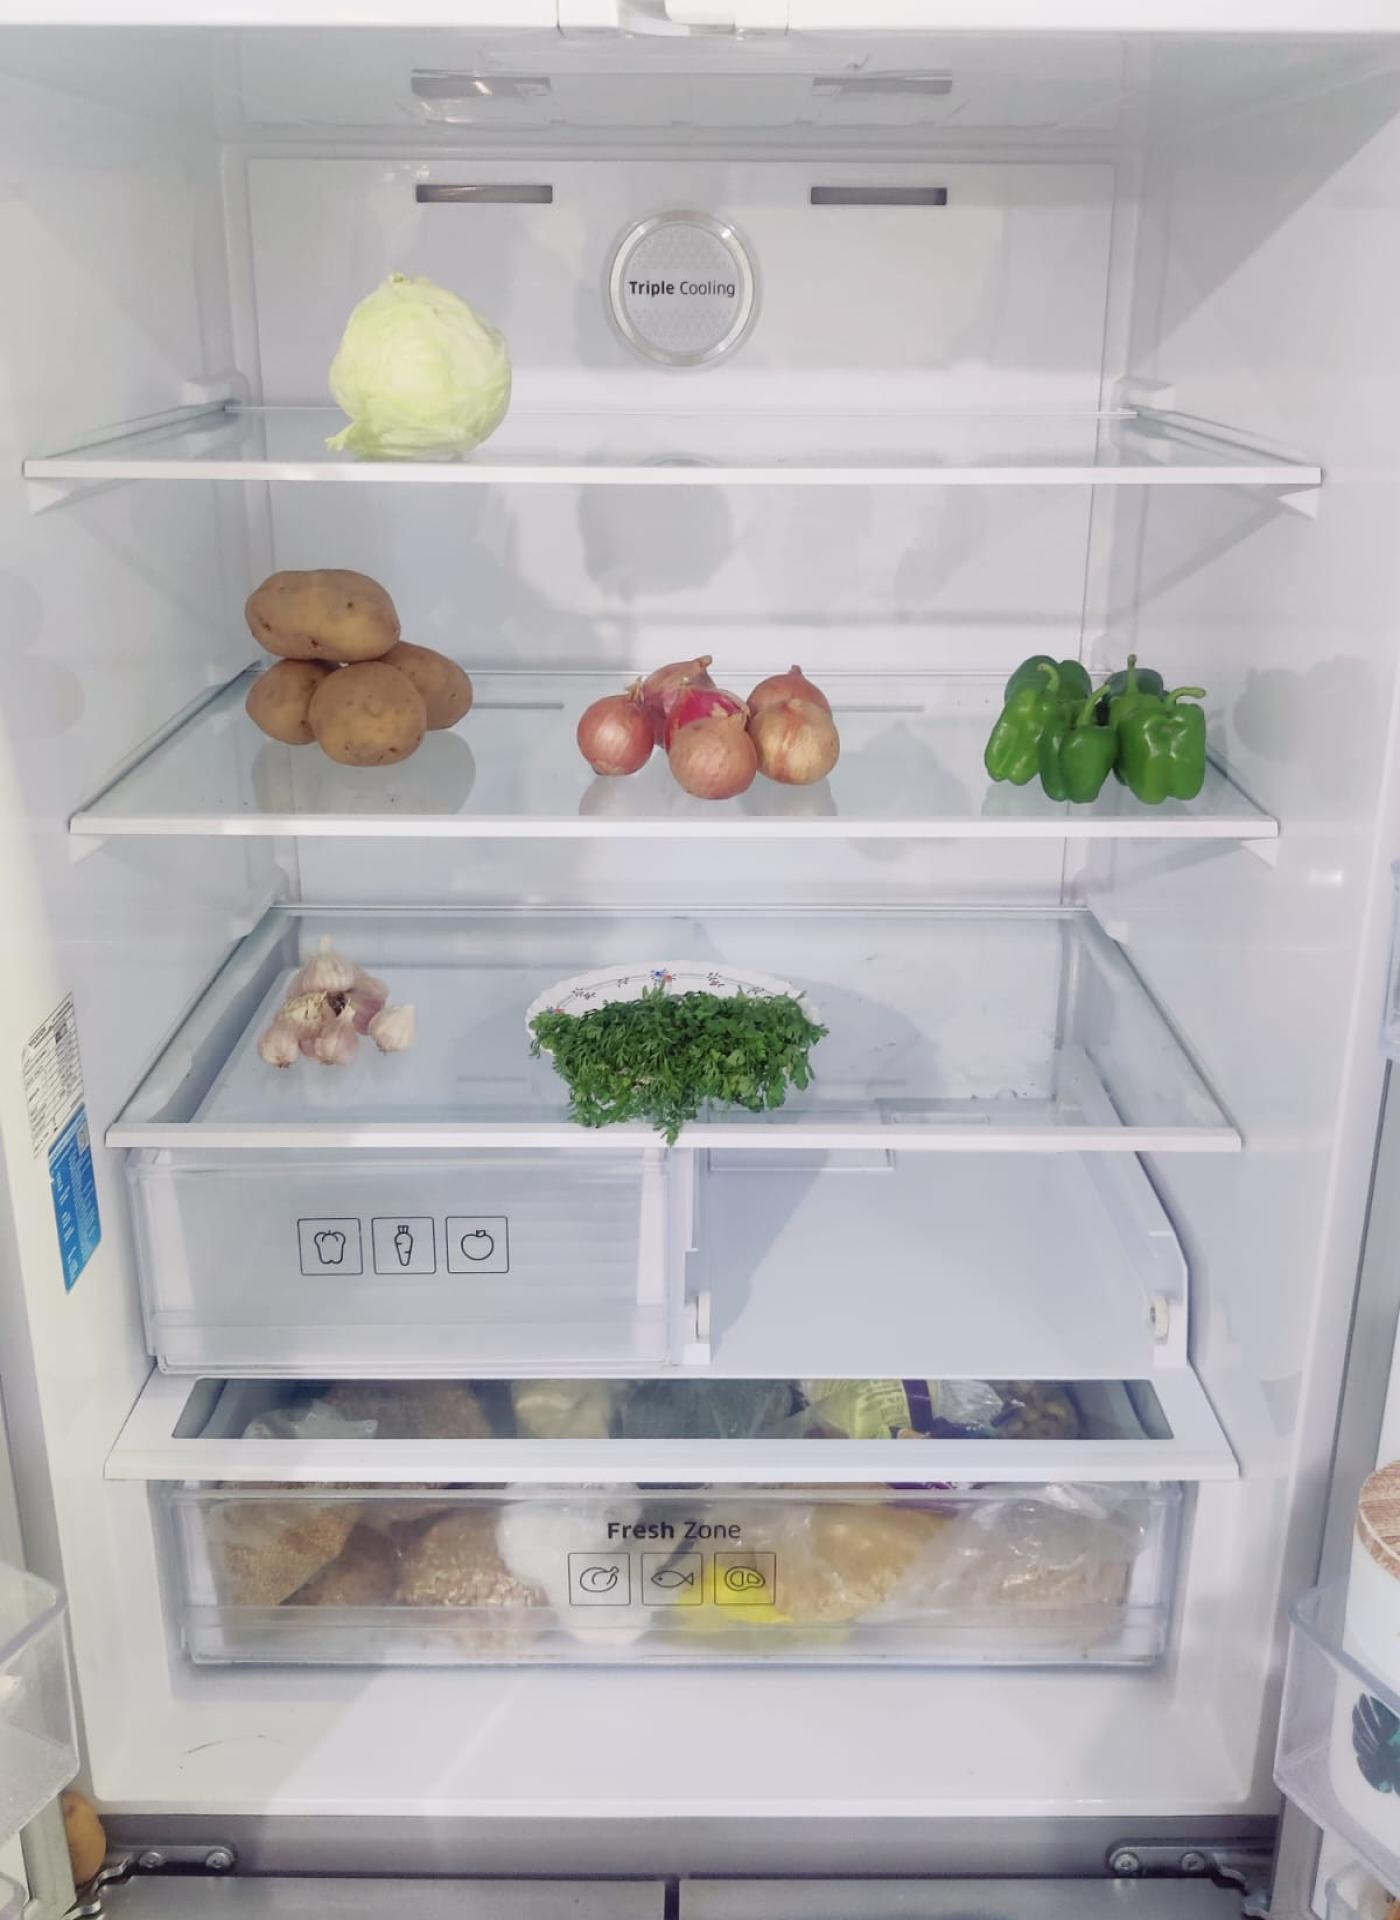cabbage: (335, 268, 522, 453)
capsicum: (984, 659, 1211, 811)
carrots: (246, 566, 476, 766)
coriander: (535, 987, 823, 1122)
garlic: (261, 939, 420, 1070)
onion: (576, 656, 842, 792)
